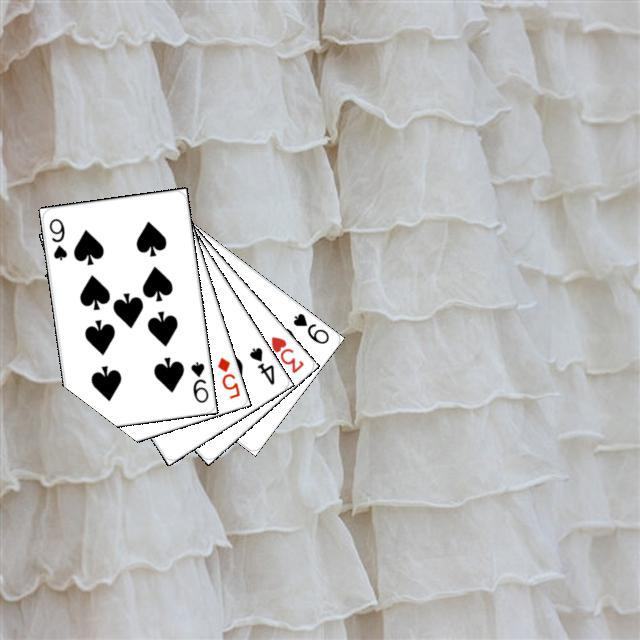3h: (266, 332, 306, 375)
4s: (244, 342, 276, 387)
5d: (212, 352, 242, 400)
9s: (288, 308, 331, 346), (44, 213, 69, 262), (186, 357, 210, 404)
